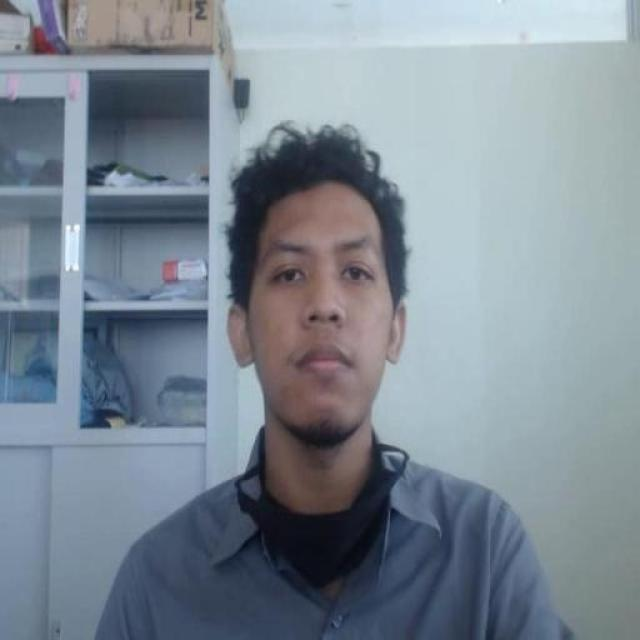bareface: (232, 178, 406, 428)
